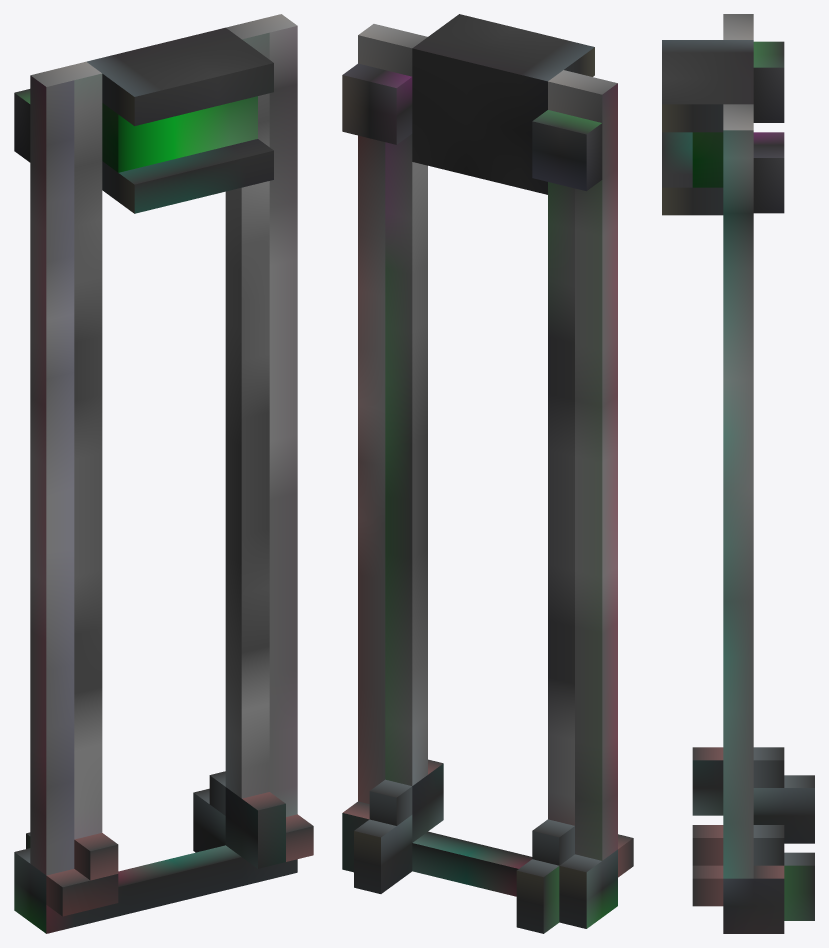
File: Scooter_Small_B_00.fbx
3 views of the same model, side by side, from view 1: azimuth 30°, elevation 25°; view 2: azimuth 150°, elevation 25°; view 3: azimuth 270°, elevation 25° (orthographic). The views are drawn at different scales.
Parts seen in each view (by area): view 1: Scooter_Small_B_00; view 2: Scooter_Small_B_00; view 3: Scooter_Small_B_00.
Part boxes in pixels (left/top/right/bottom): Scooter_Small_B_00: left=14, top=14, right=313, bottom=933; Scooter_Small_B_00: left=342, top=14, right=633, bottom=933; Scooter_Small_B_00: left=662, top=14, right=814, bottom=933.
Size of the model in its own units: 45 by 145 by 25.
